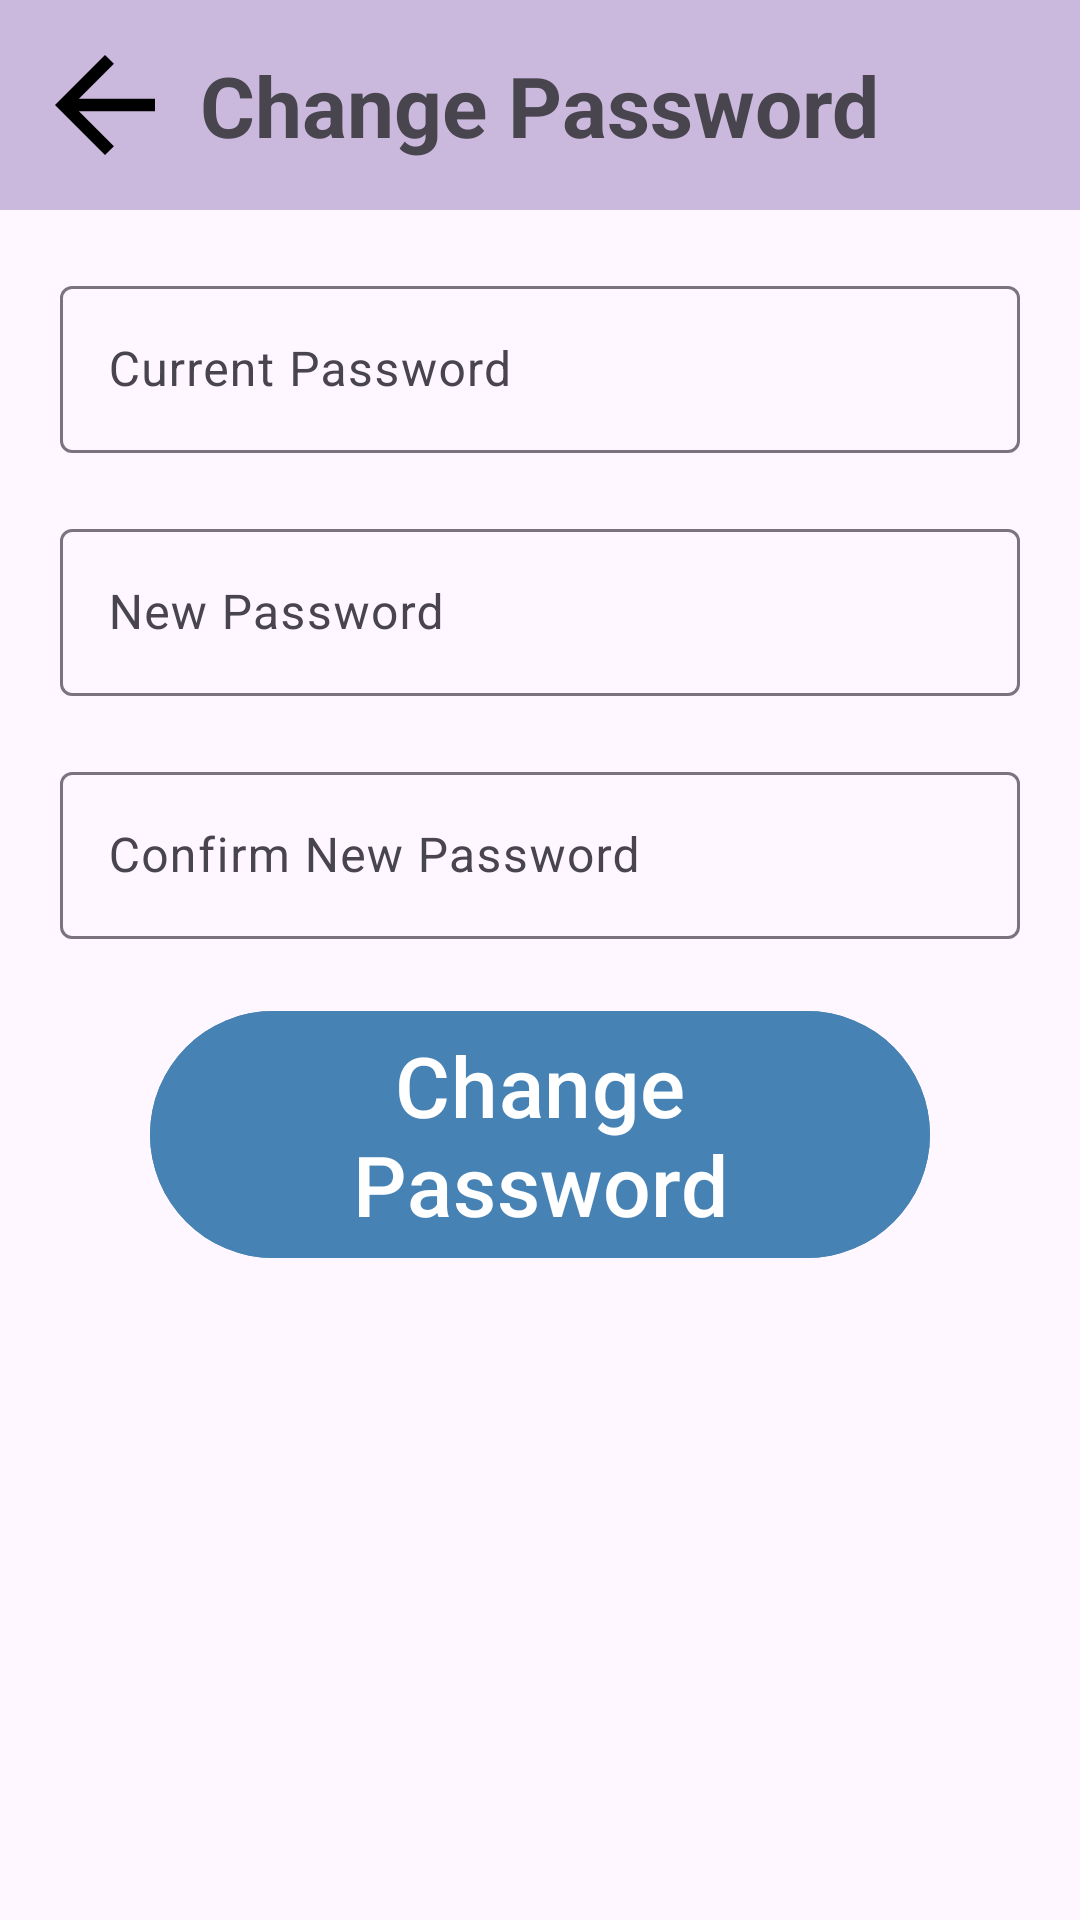

Icons on this 1080w x 1920h Android screen, each with its box as (x1, y1, x2, y2):
back: (55, 55, 155, 155)
